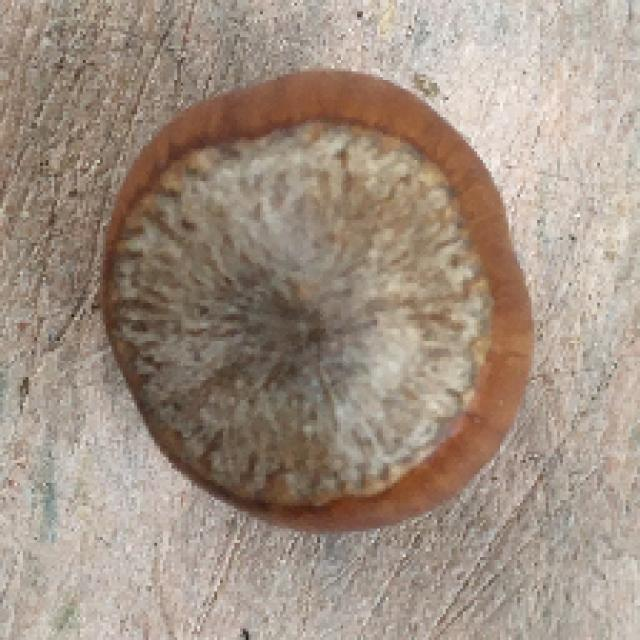qualityHazelnut: (103, 62, 528, 538)
